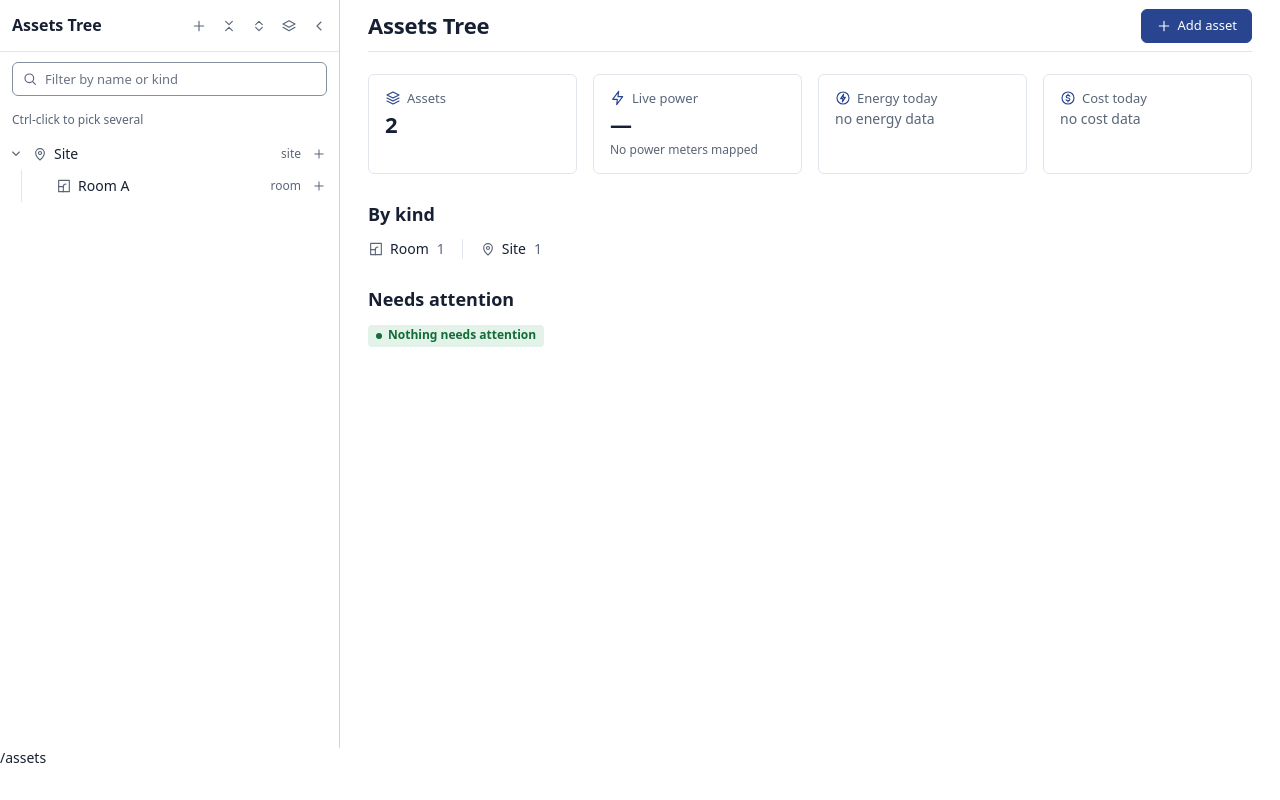
Test: AssetsPage › dialogs and the + on each branch › the Add asset button opens the dialog with no parent when nothing is selected
Click the button "Add asset".
click(1196, 26)  # box [1140, 8, 1252, 42]
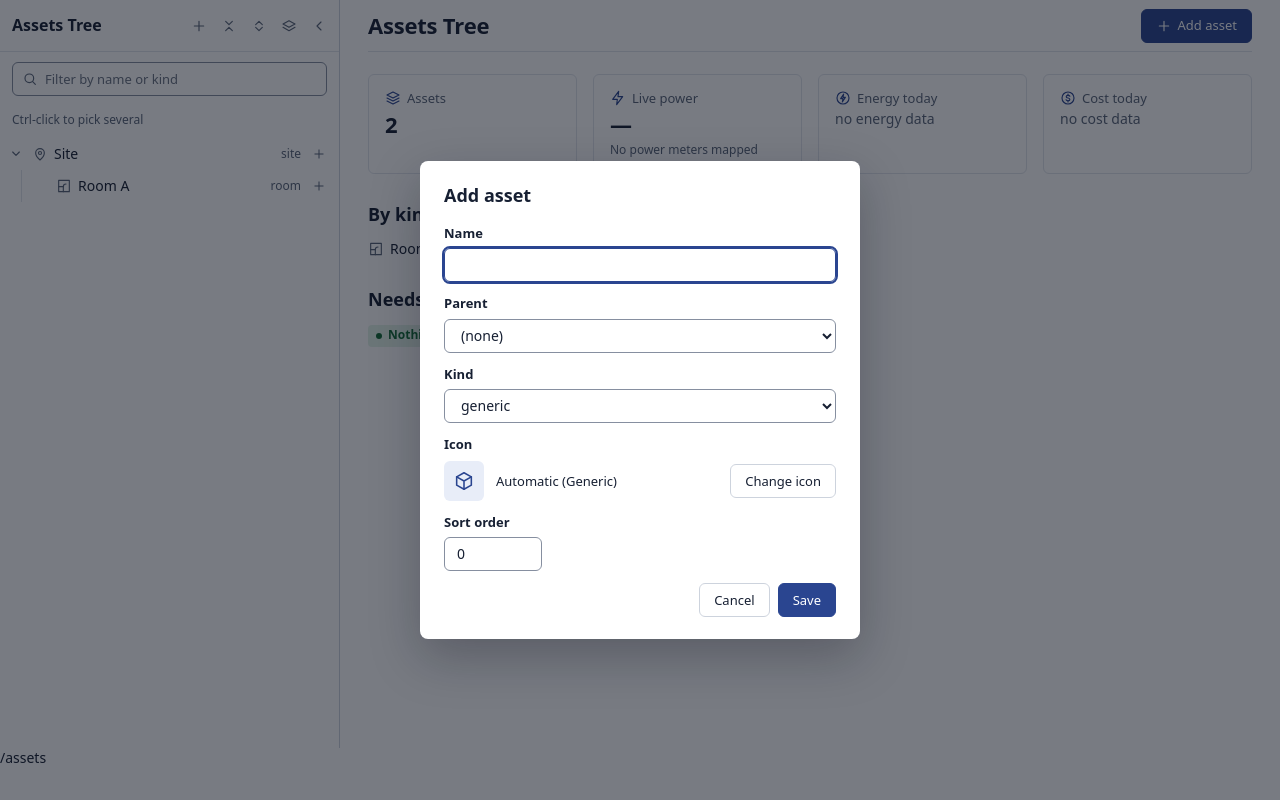
Expected: the dropdown labelled "Parent" shows "(none)", [444, 318, 836, 352]
